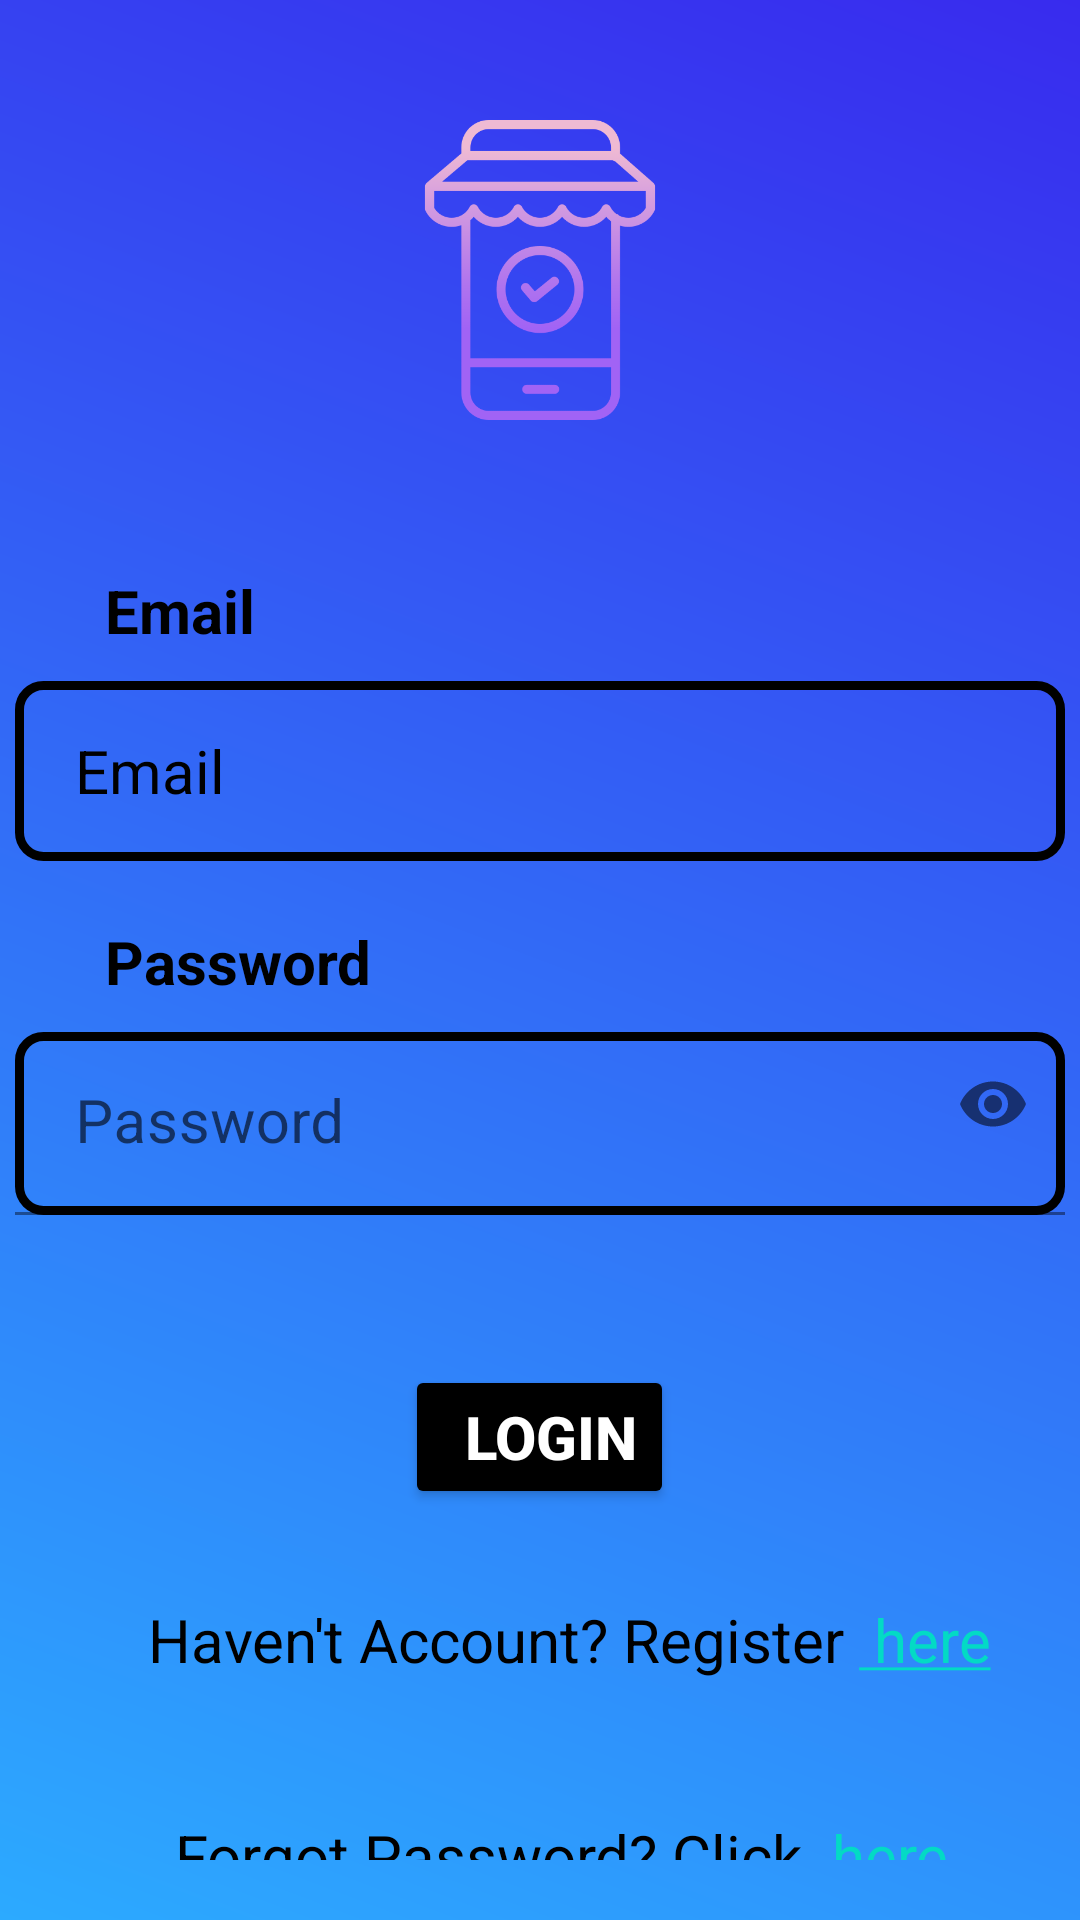

Icons on this 1080*1920 Android screen, each with the point to tap as [x,y]:
shopp: [540,270]
